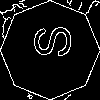S: (25, 25, 71, 58)
